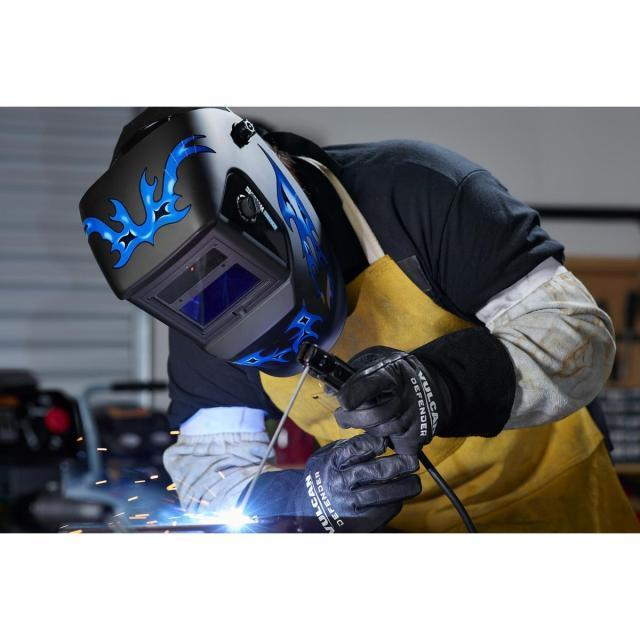with_helmet: (80, 110, 347, 372)
